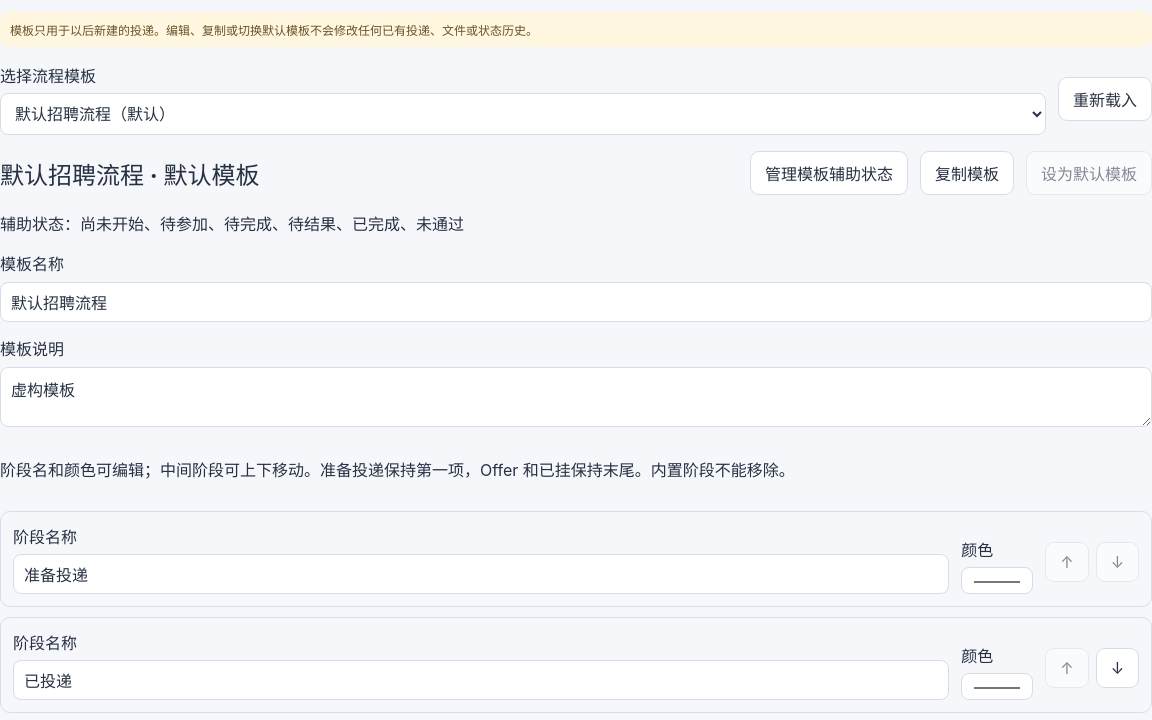
Test: independent workflow template management › creates a distinct named copy and requires confirmation to change the default
Expected: the field labelled "模板名称" is shown, [0,282,1151,322]
Click the button "复制模板" at (967, 173), box [920,151,1014,195]
(page scrolled)
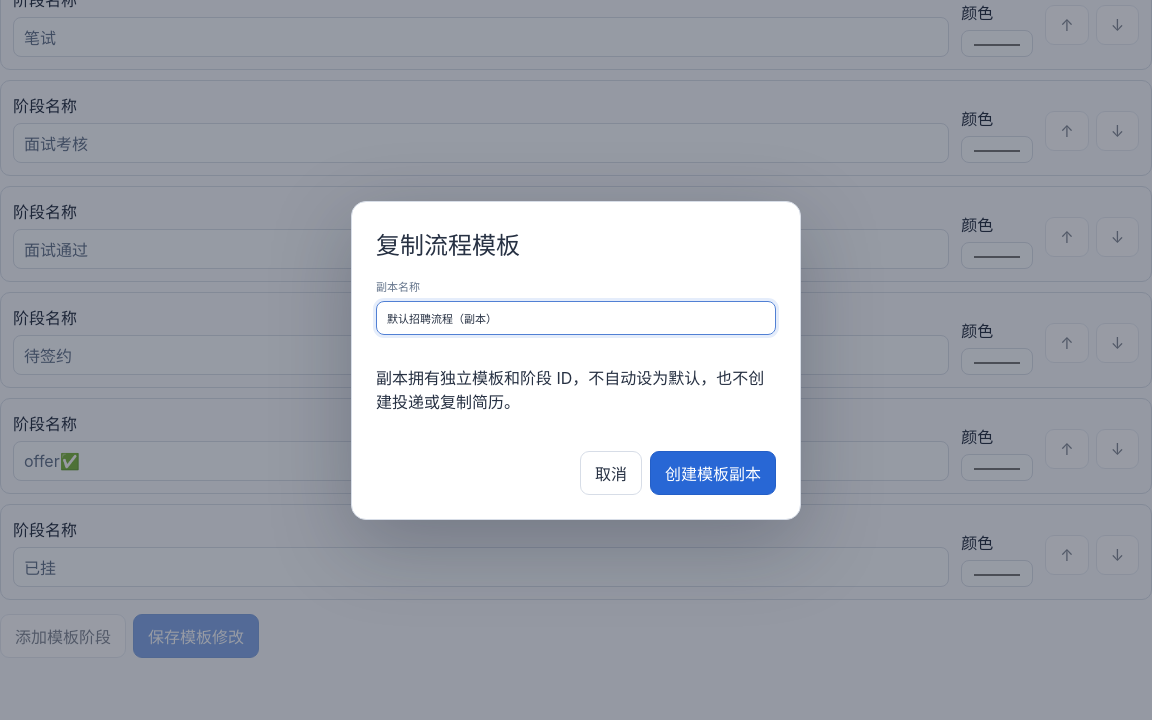
Replace the text in the field labelled "副本名称" with "银行流程" at (576, 318), box [376,300,776,334]
Click the button "创建模板副本" at (713, 472), box [650,450,776,494]
(page scrolled)
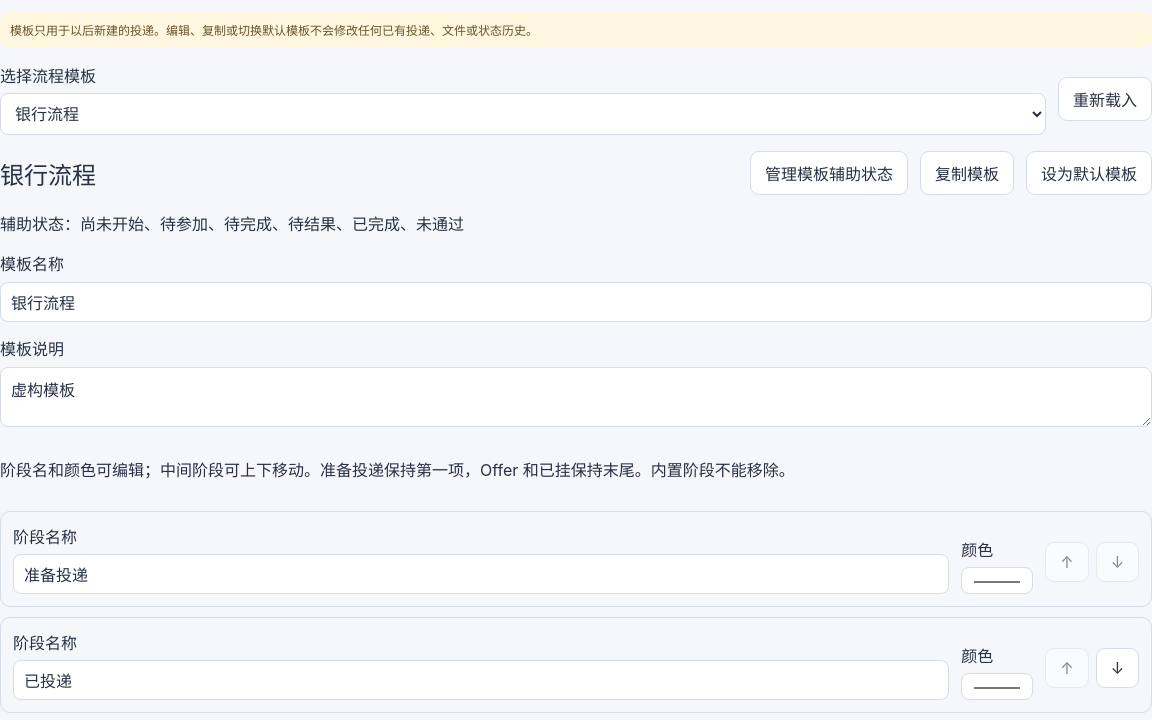
Result: the field labelled "模板名称" holds "银行流程" at [0,282,1151,322]
Result: the dialog is gone
Click the button "设为默认模板" at (1089, 173), box [1026,151,1151,195]
(page scrolled)
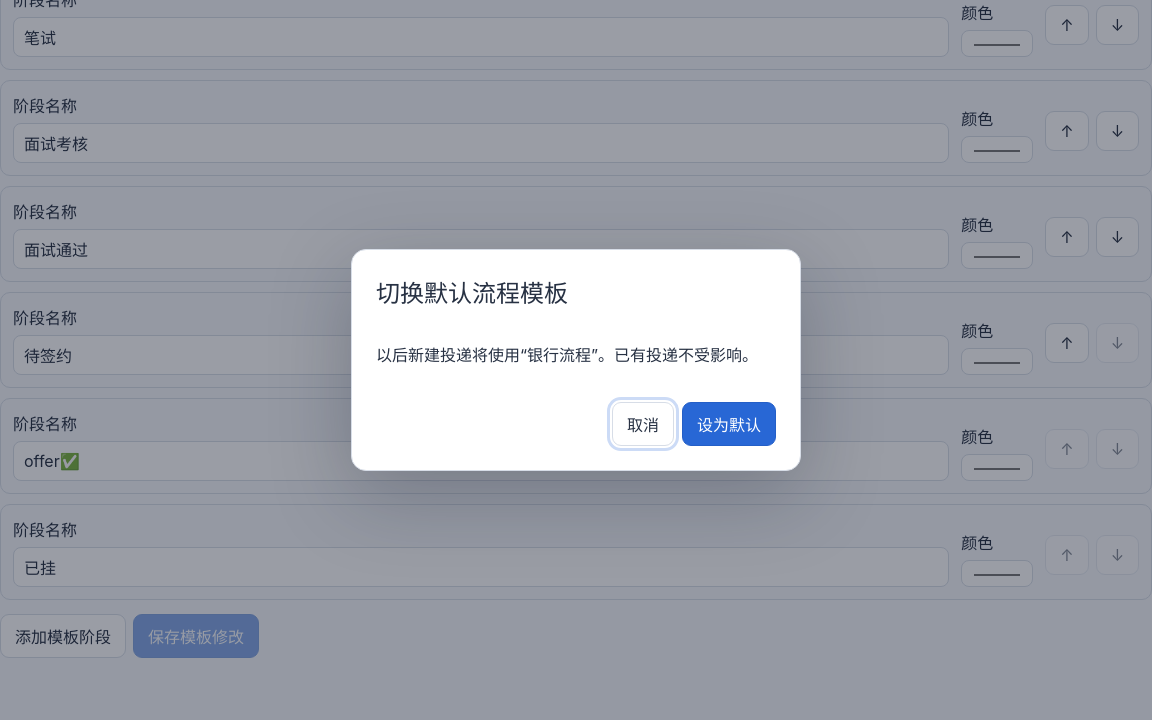
Result: the text "以后新建投递将使用“银行流程”。已有投递不受影响。" is shown at [376,342,776,366]
Click the button "取消" at (643, 424), box [612,402,674,446]
(page scrolled)
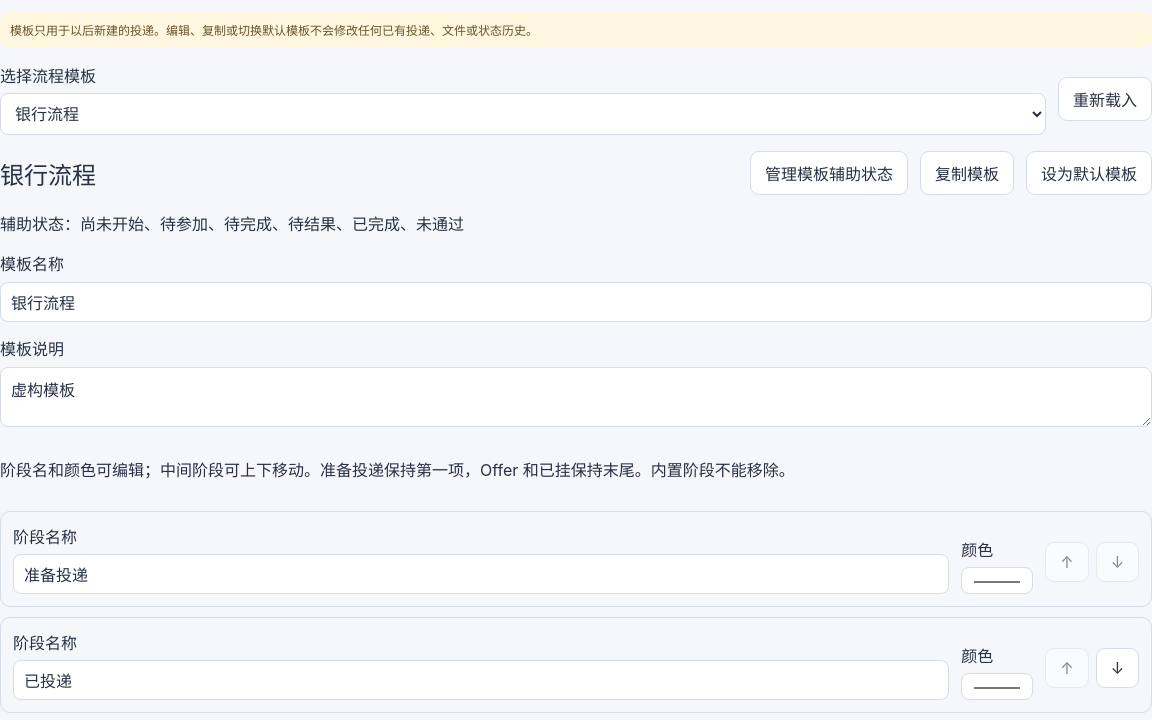
Click the button "设为默认模板" at (1089, 173), box [1026,151,1151,195]
(page scrolled)
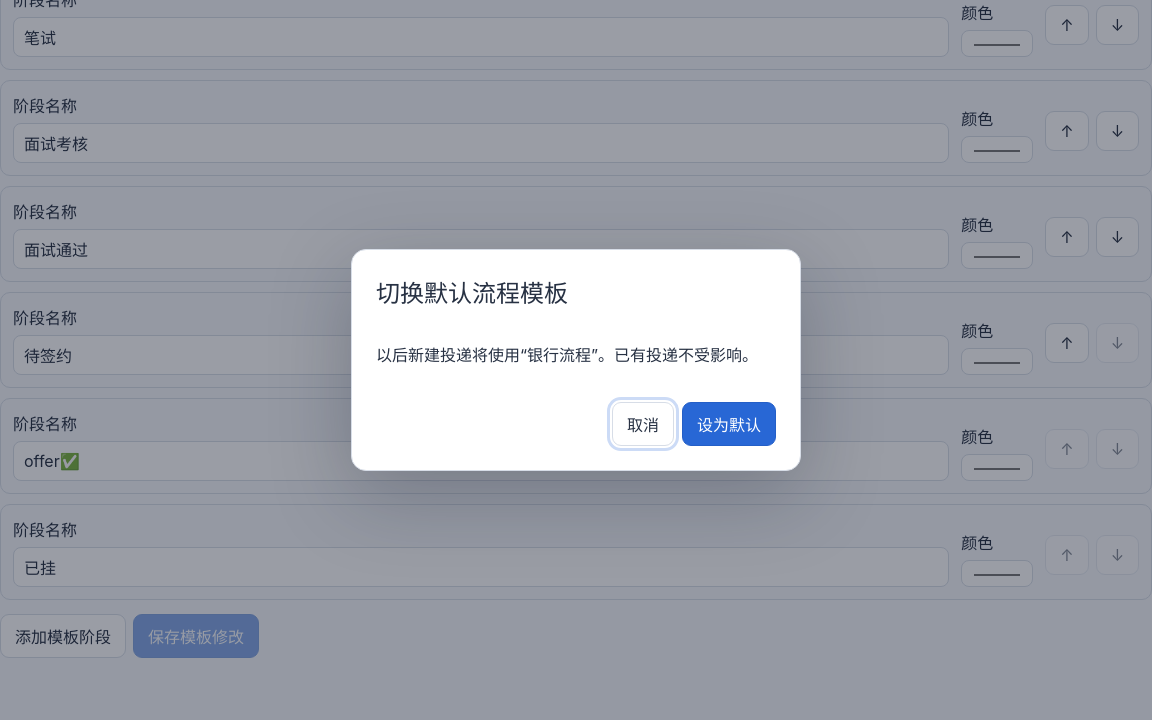
Click the button "设为默认" at (729, 424), box [682,402,776,446]
(page scrolled)
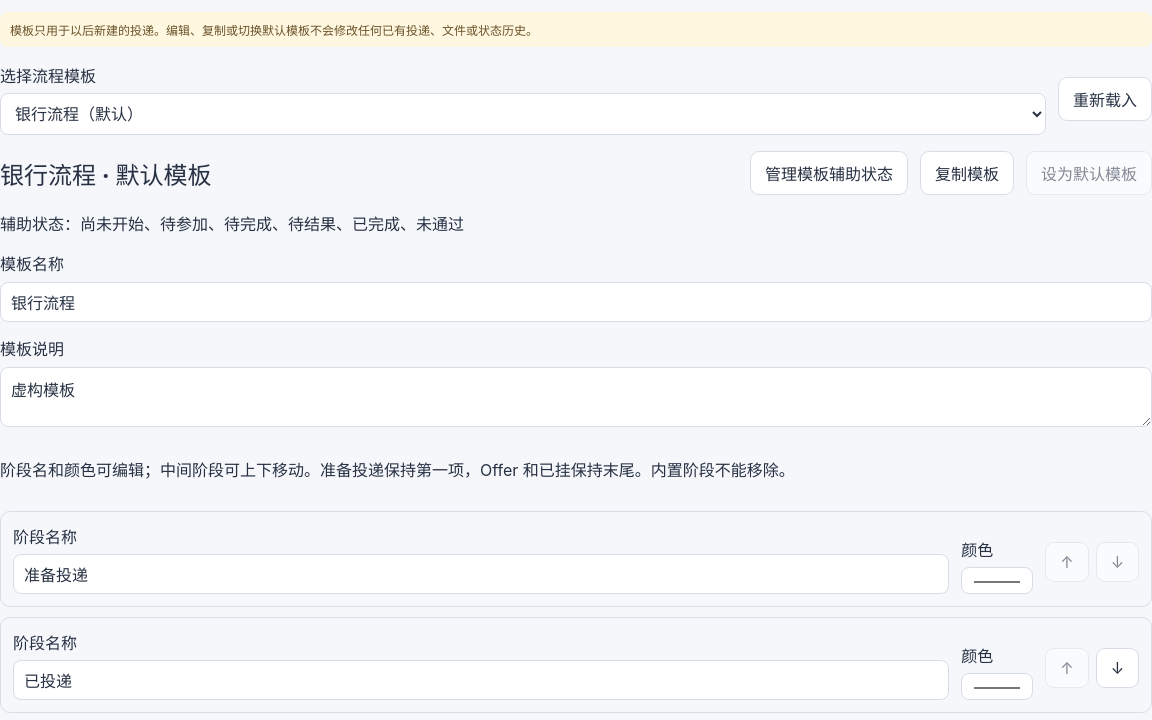
Result: the button "设为默认模板" is disabled at [1026,151,1151,195]
